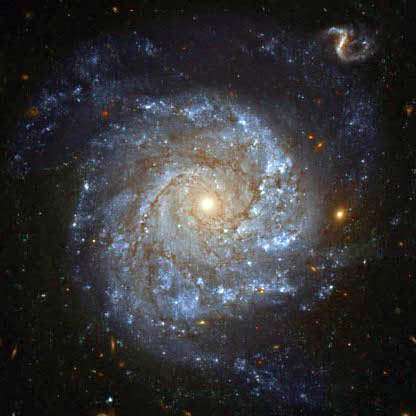NGC 1309: (23, 17, 385, 398)
